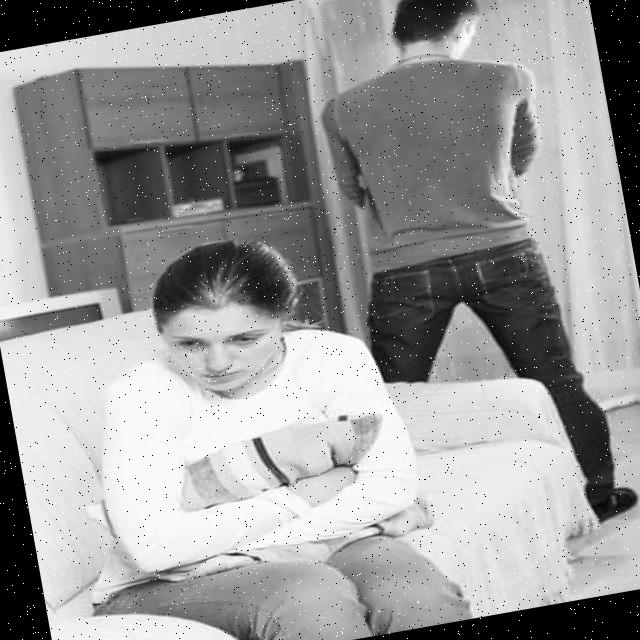Sadness: (166, 299, 280, 399)
